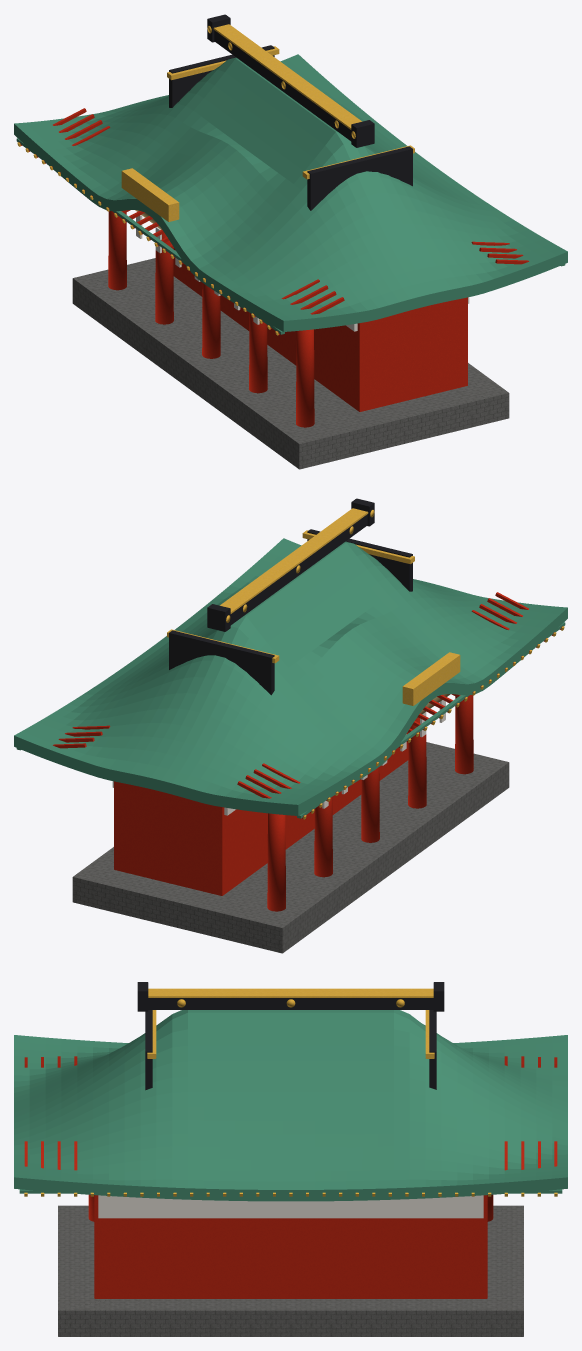
The model's file is Asset_07_Naihaiden_Karahafu_Hall.glb.
3 views of the same model, one above another, from view 1: azimuth 30°, elevation 25°; view 2: azimuth 150°, elevation 25°; view 3: azimuth 270°, elevation 25° (orthographic). The views are drawn at different scales.
Parts seen in each view (by area): view 1: Z03_Naihaiden_Roof, Z03_Naihaiden_Podium, Z03_Naihaiden_InnerCore, Z03_Naihaiden_Roof_Gable_Pediment_-1, Z03_Naihaiden_Roof_Ridge_Gold_Cap, Z03_Naihaiden_FrontCol_-4.8, Z03_Naihaiden_Roof_Ridge_Beam, Z03_Naihaiden_Karahafu_Gold, Z03_Naihaiden_FrontCol_2.4, Z03_Naihaiden_FrontCol_4.8, Z03_Naihaiden_FrontCol_-2.4, Z03_Naihaiden_FrontCol_0.0 (+3 smaller); view 2: Z03_Naihaiden_Roof, Z03_Naihaiden_Podium, Z03_Naihaiden_InnerCore, Z03_Naihaiden_Roof_Gable_Pediment_1, Z03_Naihaiden_Roof_Ridge_Gold_Cap, Z03_Naihaiden_FrontCol_4.8, Z03_Naihaiden_Roof_Ridge_Beam, Z03_Naihaiden_Karahafu_Gold, Z03_Naihaiden_FrontCol_-2.4, Z03_Naihaiden_FrontCol_-4.8, Z03_Naihaiden_FrontCol_2.4, Z03_Naihaiden_FrontCol_0.0 (+3 smaller); view 3: Z03_Naihaiden_Roof, Z03_Naihaiden_InnerCore, Z03_Naihaiden_Podium, Z03_Naihaiden_Shikku, Z03_Naihaiden_Roof_Ridge_Beam, Z03_Naihaiden_Roof_Ridge_Gold_Cap, Z03_Naihaiden_Roof_Gable_Pediment_-1, Z03_Naihaiden_Roof_Gable_Pediment_1.
Boxes of the visible parts, box(x1,y1,x2,y2) form: Z03_Naihaiden_Roof: box(14, 54, 567, 331); Z03_Naihaiden_Podium: box(72, 258, 509, 469); Z03_Naihaiden_InnerCore: box(173, 248, 467, 411); Z03_Naihaiden_Roof_Gable_Pediment_-1: box(307, 146, 412, 210); Z03_Naihaiden_Roof_Ridge_Gold_Cap: box(213, 24, 361, 129); Z03_Naihaiden_FrontCol_-4.8: box(296, 329, 314, 427); Z03_Naihaiden_Roof_Ridge_Beam: box(214, 30, 351, 141); Z03_Naihaiden_Karahafu_Gold: box(121, 168, 179, 221); Z03_Naihaiden_FrontCol_2.4: box(155, 233, 173, 324); Z03_Naihaiden_FrontCol_4.8: box(108, 211, 126, 290); Z03_Naihaiden_FrontCol_-2.4: box(249, 312, 267, 393); Z03_Naihaiden_FrontCol_0.0: box(202, 283, 220, 358); Z03_Naihaiden_Roof: box(14, 538, 567, 815); Z03_Naihaiden_Podium: box(72, 742, 509, 953); Z03_Naihaiden_InnerCore: box(114, 732, 408, 895); Z03_Naihaiden_Roof_Gable_Pediment_1: box(169, 630, 274, 695); Z03_Naihaiden_Roof_Ridge_Gold_Cap: box(220, 508, 368, 613); Z03_Naihaiden_FrontCol_4.8: box(267, 813, 285, 911); Z03_Naihaiden_Roof_Ridge_Beam: box(230, 514, 367, 625); Z03_Naihaiden_Karahafu_Gold: box(402, 652, 460, 705); Z03_Naihaiden_FrontCol_-2.4: box(408, 717, 426, 808); Z03_Naihaiden_FrontCol_-4.8: box(455, 695, 473, 774); Z03_Naihaiden_FrontCol_2.4: box(314, 796, 332, 877); Z03_Naihaiden_FrontCol_0.0: box(361, 767, 379, 842); Z03_Naihaiden_Roof: box(14, 1010, 567, 1201); Z03_Naihaiden_InnerCore: box(94, 1195, 487, 1298); Z03_Naihaiden_Podium: box(58, 1205, 523, 1336); Z03_Naihaiden_Shikku: box(98, 1195, 483, 1218); Z03_Naihaiden_Roof_Ridge_Beam: box(148, 998, 433, 1009); Z03_Naihaiden_Roof_Ridge_Gold_Cap: box(148, 988, 433, 997); Z03_Naihaiden_Roof_Gable_Pediment_-1: box(145, 1010, 152, 1090); Z03_Naihaiden_Roof_Gable_Pediment_1: box(429, 1010, 436, 1089).
Size of the model in its own units: 8.56 by 8.18 by 13.8.
7 materials, 3 textured.
